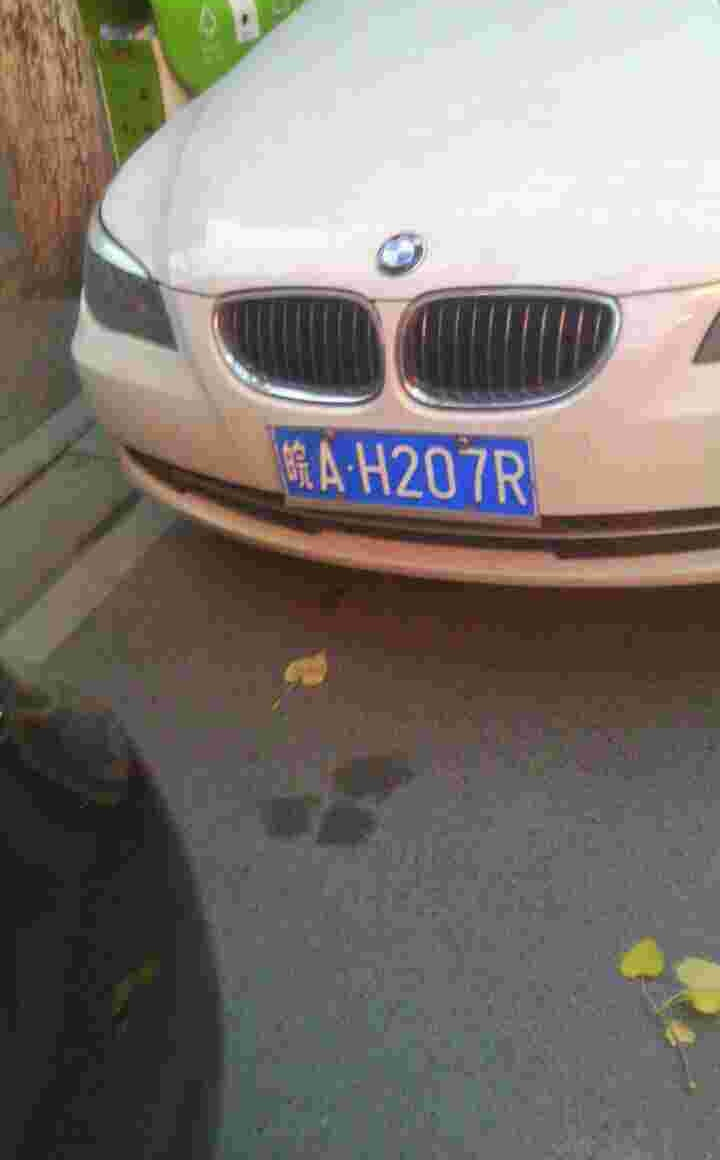license_plate: (285, 428, 523, 517)
